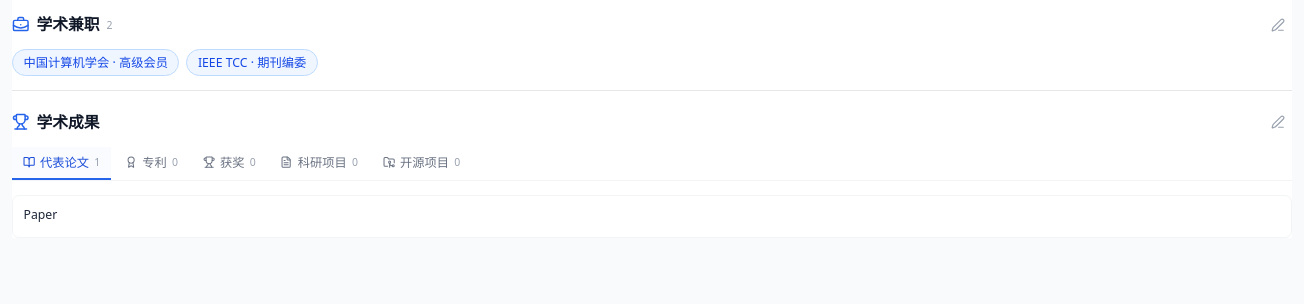
Test: AchievementsDetailCard › renders academic adjuncts as visible tags instead of an achievement tab
Check: the heading "学术成果" is shown, box [36, 110, 100, 134]
Check: the button "代表论文 1" is shown, box [12, 146, 111, 180]
Step 1. Click the button "科研项目 0" → (319, 163), box [270, 146, 369, 180]
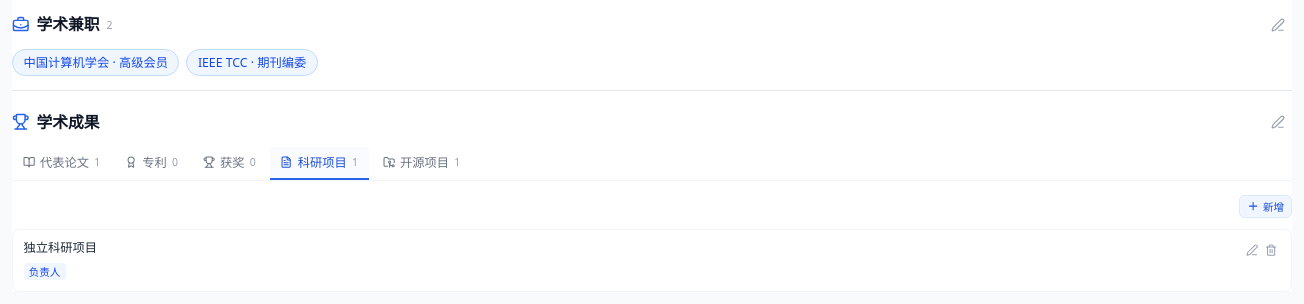
Check: the text "独立科研项目" is shown, box [24, 240, 97, 257]
Step 2. Click the button "开源项目 1" → (422, 163), box [372, 146, 471, 180]
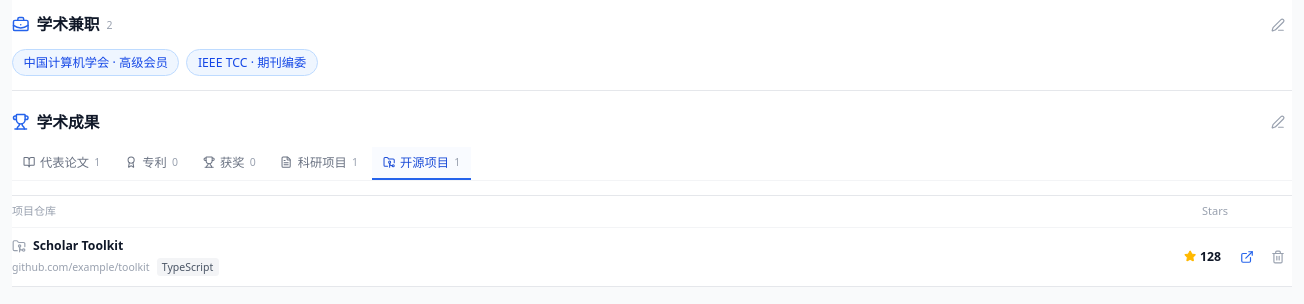
Check: the element with test id "scholar-academic-adjuncts-module" shows "中国计算机学会 · 高级会员", box [24, 54, 168, 70]
Check: the text "Scholar Toolkit" is shown, box [33, 238, 123, 255]
